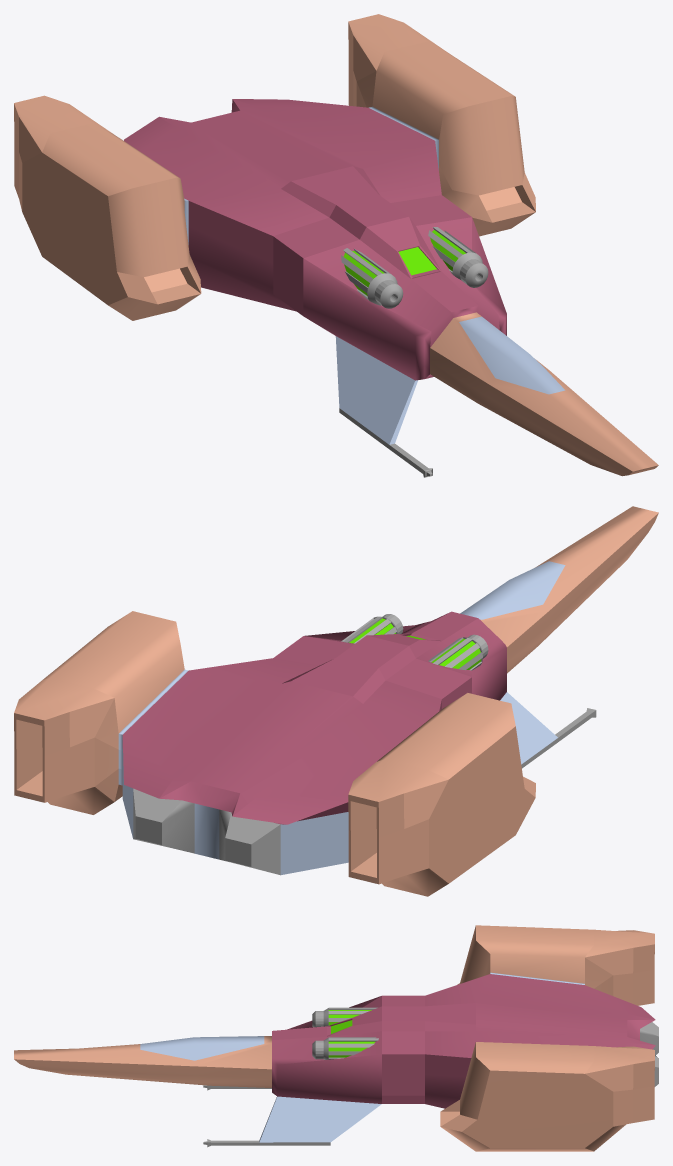
File: playership_01_incolor_03.fbx
The picture shows the model from 3 angles, top to bottom: view 1: azimuth 30°, elevation 25°; view 2: azimuth 150°, elevation 25°; view 3: azimuth 270°, elevation 25°; orthographic projection. The views are drawn at different scales.
Visible parts, largest first — view 1: polySurface1; view 2: polySurface1; view 3: polySurface1.
Boxes of the visible parts, left/top/right/bottom form: polySurface1: left=14, top=14, right=658, bottom=477; polySurface1: left=14, top=506, right=658, bottom=896; polySurface1: left=14, top=925, right=658, bottom=1151.
Bounding box in the file's own units: 11.08 × 4.6 × 21.29.
